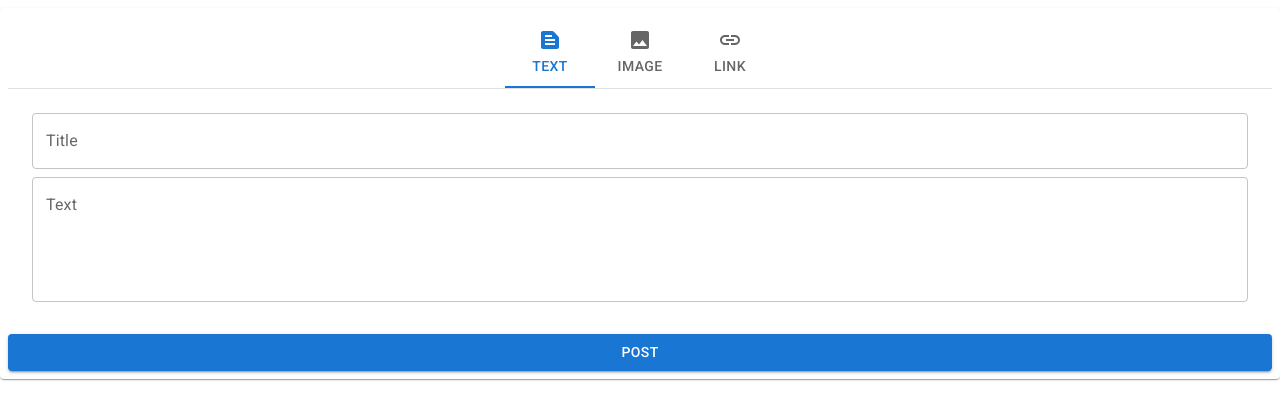
Test: CreatePostCard Tests › Check interaction with elements › should display an error if there is an error with the link.
Click the tab with test id "link-icon" at (730,52), box [685, 16, 775, 88]
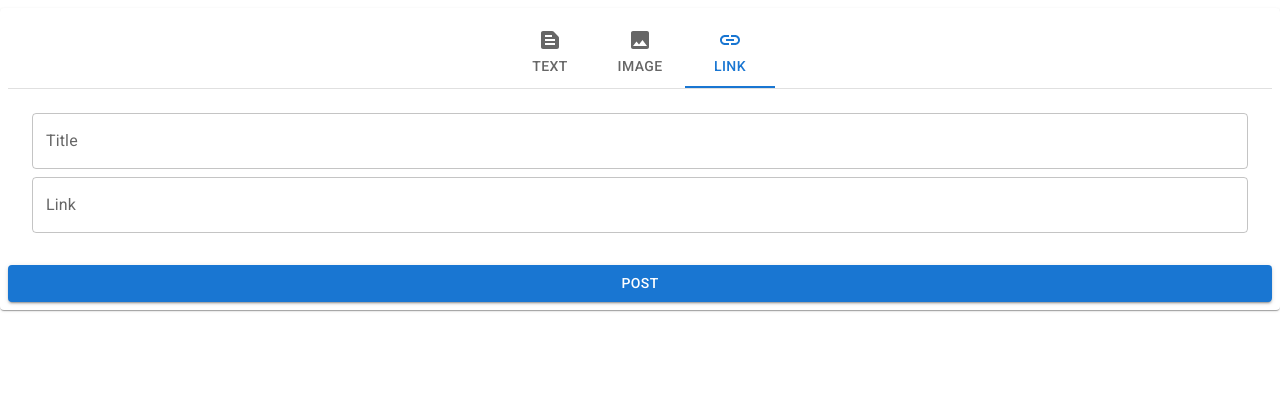
Check: the text "Provide a valid link" is not shown
Click the button "Post" at (640,283), box [8, 265, 1272, 302]
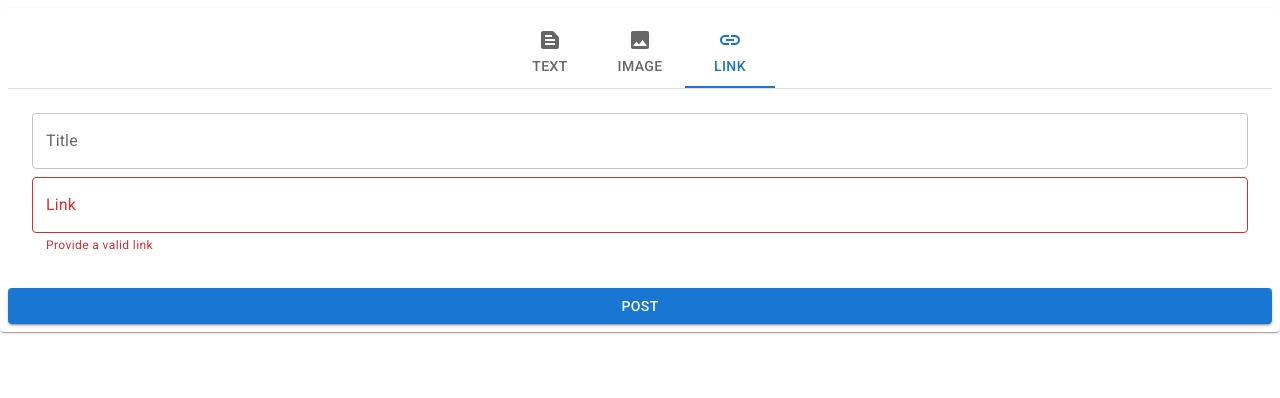
Check: the text "Provide a valid link" is shown, box [46, 238, 153, 252]
